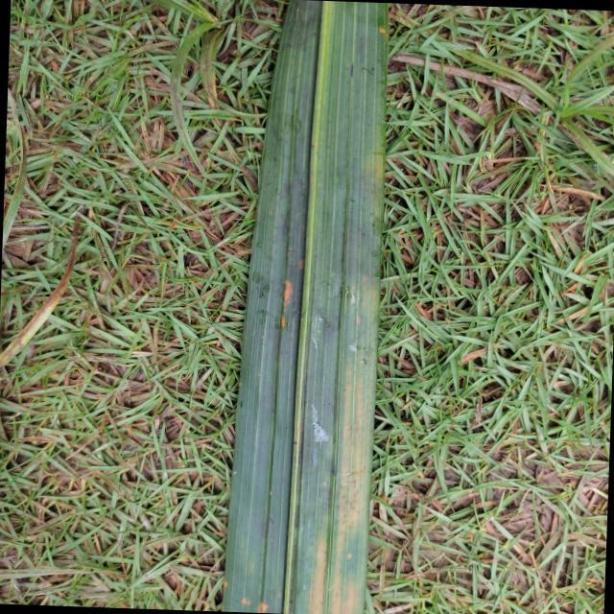Megnesium: (216, 0, 384, 614)
